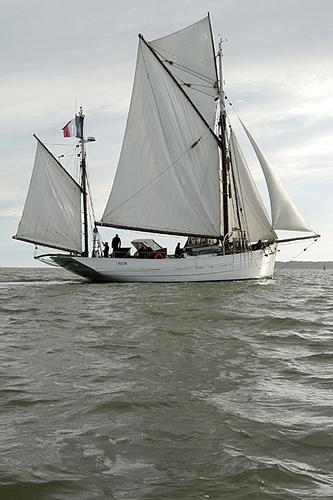Ship: (15, 13, 320, 281)
